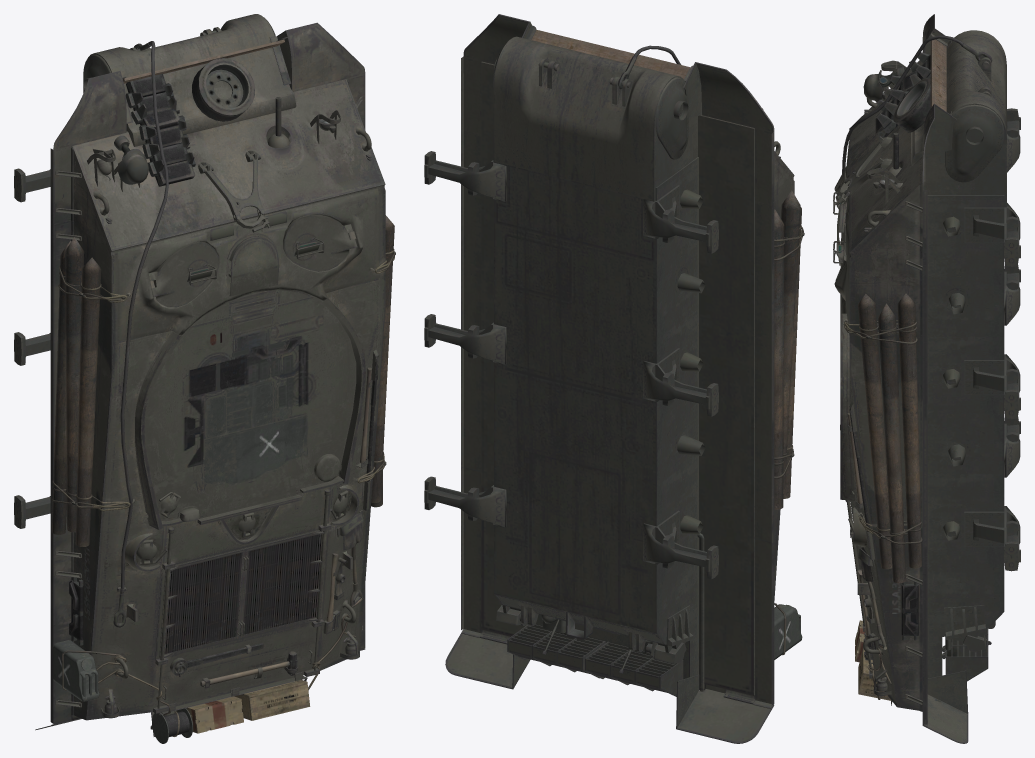
File: Hull.glb
3 views of the same model, side by side, from view 1: azimuth 30°, elevation 25°; view 2: azimuth 150°, elevation 25°; view 3: azimuth 270°, elevation 25° (orthographic). The views are drawn at different scales.
Parts seen in each view (by area): view 1: set_0_group_0; view 2: set_0_group_0; view 3: set_0_group_0.
Boxes of the visible parts, box(x1,y1,x2,y2) form: set_0_group_0: box(14, 14, 395, 743); set_0_group_0: box(424, 14, 804, 743); set_0_group_0: box(833, 14, 1020, 743).
Bounding box in the file's own units: 3.11 × 6.13 × 1.68.
1 material, 1 textured.
